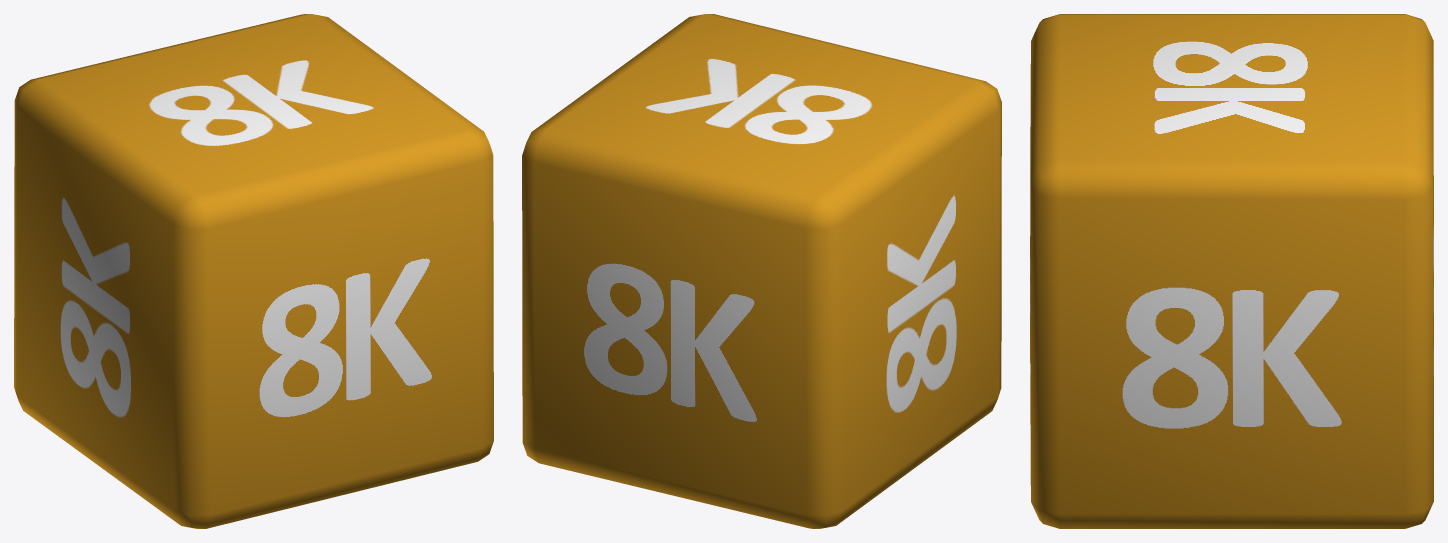
3 renders of one model, left to right at view 1: azimuth 30°, elevation 25°; view 2: azimuth 150°, elevation 25°; view 3: azimuth 270°, elevation 25°, orthographic. The views are drawn at different scales.
Visible parts, largest first — view 1: cube; view 2: cube; view 3: cube.
Boxes of the visible parts, box(x1,y1,x2,y2) form: cube: box(14, 14, 493, 528); cube: box(522, 14, 1001, 528); cube: box(1030, 14, 1433, 528).
Bounding box in the file's own units: 0.8141 × 0.8175 × 0.8137.
1 material, 1 textured.
